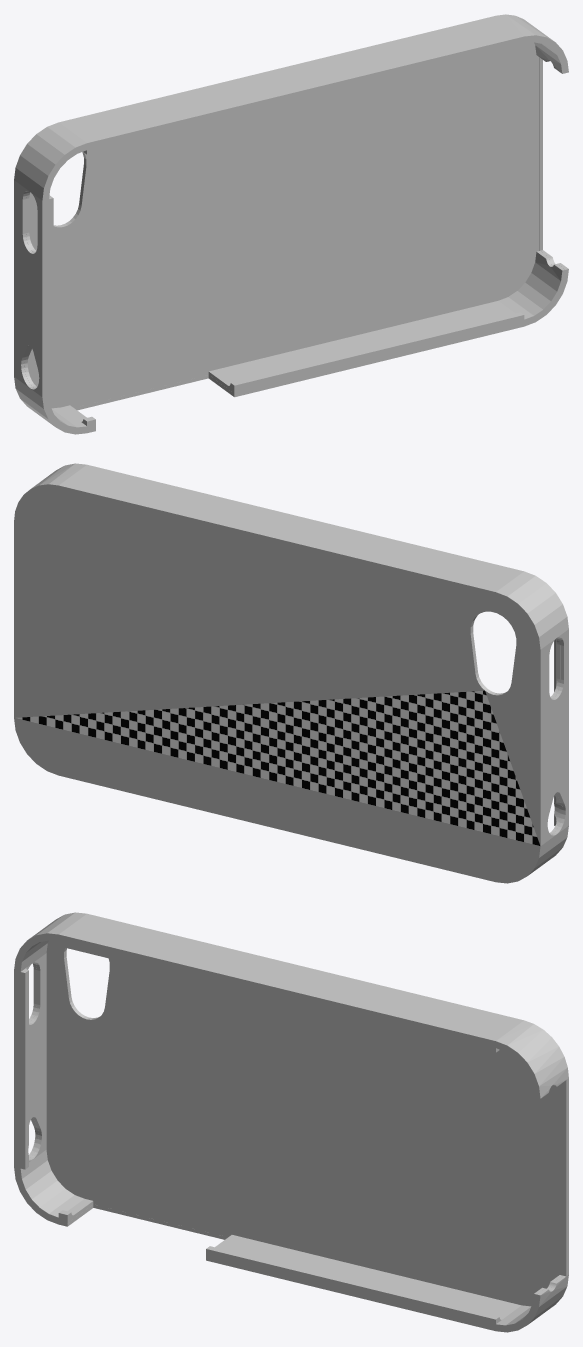
Rendered from iphone.obj.
3 views of the same model, one above another, from view 1: azimuth 30°, elevation 25°; view 2: azimuth 150°, elevation 25°; view 3: azimuth 330°, elevation 25° (orthographic).
Bounding box in the file's own units: 119 × 62.62 × 11.12.
